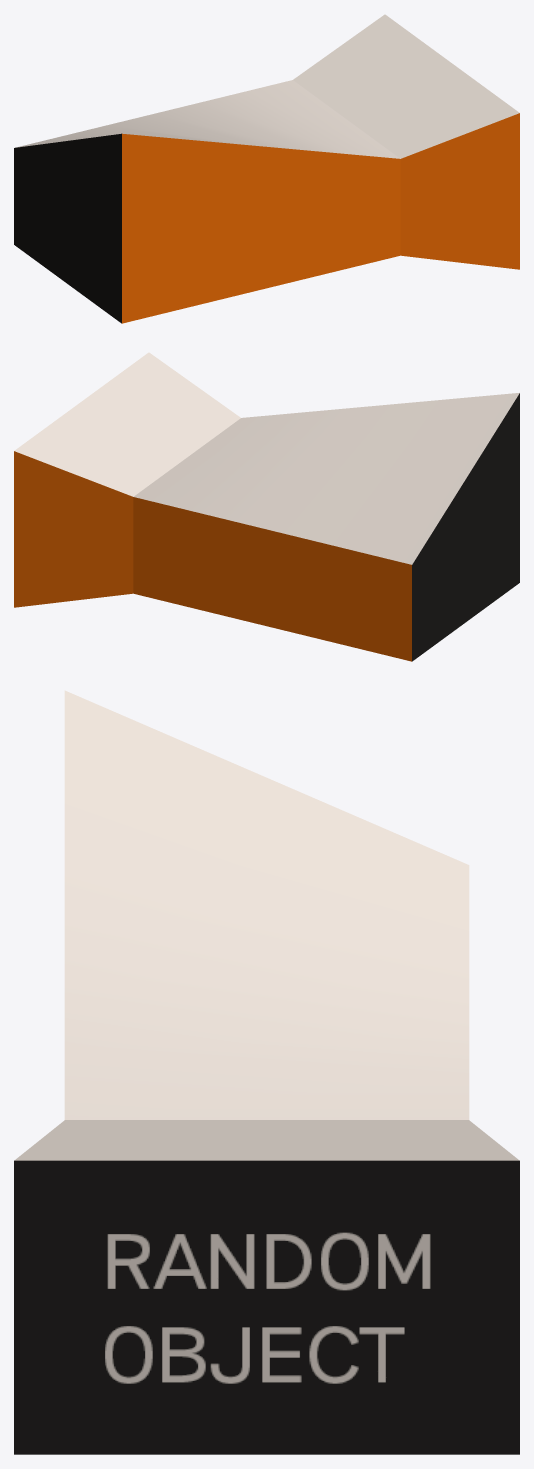
The model's file is RandomObject.FBX.
3 renders of one model, top to bottom at view 1: azimuth 30°, elevation 25°; view 2: azimuth 150°, elevation 25°; view 3: azimuth 270°, elevation 25°, orthographic. The views are drawn at different scales.
Visible parts, largest first — view 1: 3dSolid; view 2: 3dSolid; view 3: 3dSolid.
Part boxes in pixels (x1,y1,x2,y2): 3dSolid: (14,14,519,323); 3dSolid: (14,352,519,661); 3dSolid: (14,690,519,1454).
Size of the model in its own units: 56.16 by 34.13 by 30.69.
Materials: 1 (1 with a texture image).
